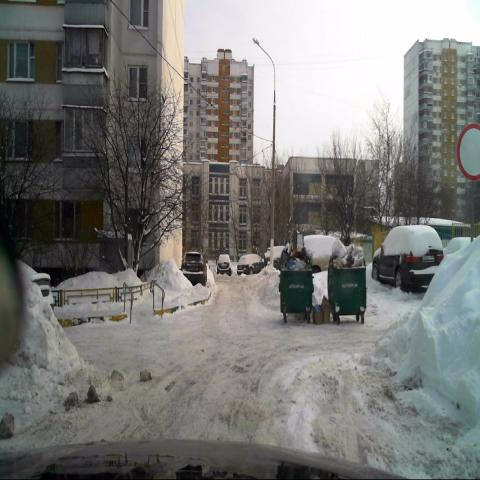3_2: (456, 123, 480, 181)
